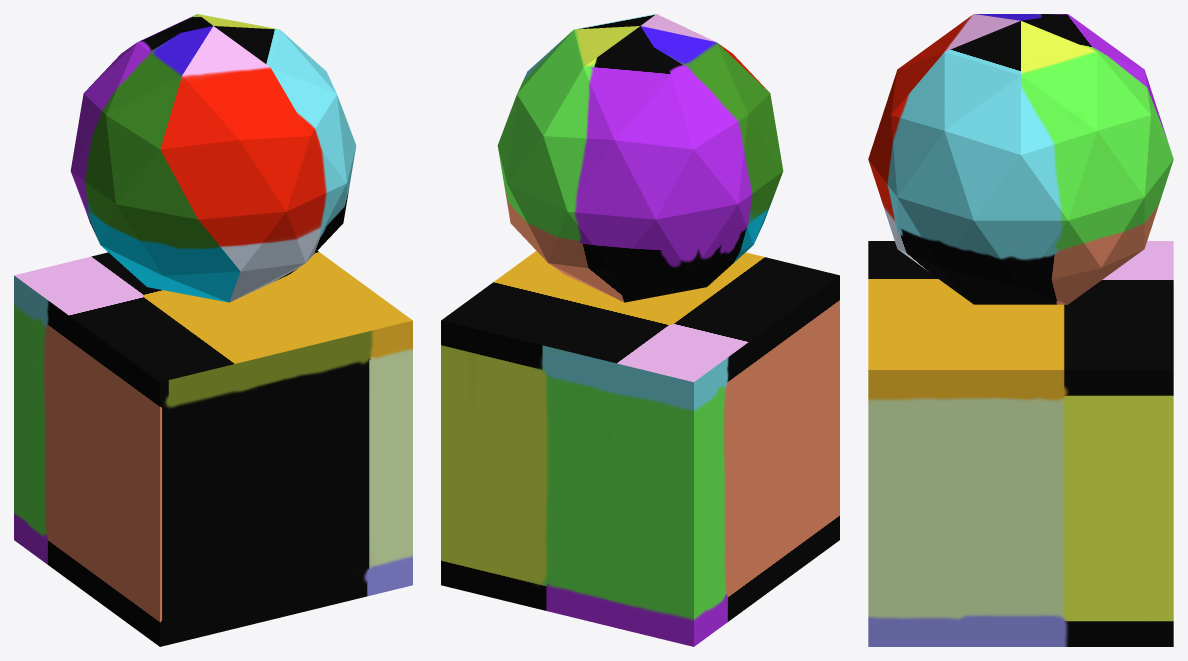
The picture shows the model from 3 angles, left to right: view 1: azimuth 30°, elevation 25°; view 2: azimuth 150°, elevation 25°; view 3: azimuth 270°, elevation 25°; orthographic projection. The views are drawn at different scales.
Parts seen in each view (by area): view 1: Cube, ICO; view 2: Cube, ICO; view 3: Cube, ICO.
Boxes of the visible parts, x1,y1,x2,y2 form: Cube: [14, 251, 412, 646]; ICO: [70, 14, 356, 302]; Cube: [441, 251, 839, 646]; ICO: [497, 14, 783, 302]; Cube: [868, 241, 1173, 646]; ICO: [868, 14, 1173, 304].
Bounding box in the file's own units: 200 × 406 × 200.
1 material, 1 textured.
